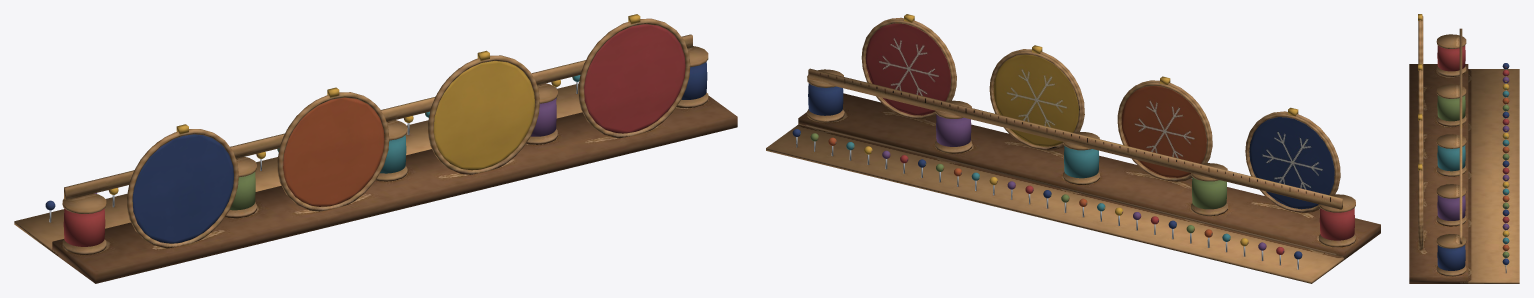
Rendered from sled_rack.glb.
3 views of the same model, side by side, from view 1: azimuth 30°, elevation 25°; view 2: azimuth 150°, elevation 25°; view 3: azimuth 270°, elevation 25° (orthographic). The views are drawn at different scales.
Parts seen in each view (by area): view 1: prop_sled_rack_felt, prop_sled_rack_wood; view 2: prop_sled_rack_wood, prop_sled_rack_felt, prop_sled_rack_steel; view 3: prop_sled_rack_wood, prop_sled_rack_felt, prop_sled_rack_brass.
Part boxes in pixels (x1=…): prop_sled_rack_felt: x1=45, y1=24, x2=707, y2=246; prop_sled_rack_wood: x1=14, y1=18, x2=737, y2=283; prop_sled_rack_wood: x1=766, y1=17, x2=1380, y2=283; prop_sled_rack_felt: x1=792, y1=23, x2=1354, y2=259; prop_sled_rack_steel: x1=796, y1=137, x2=1298, y2=269; prop_sled_rack_wood: x1=1409, y1=15, x2=1519, y2=283; prop_sled_rack_felt: x1=1420, y1=45, x2=1509, y2=270; prop_sled_rack_brass: x1=1418, y1=14, x2=1422, y2=170.
Bounding box in the file's own units: 12.8 × 2.45 × 2.81.
Materials: 4 (2 with a texture image).
